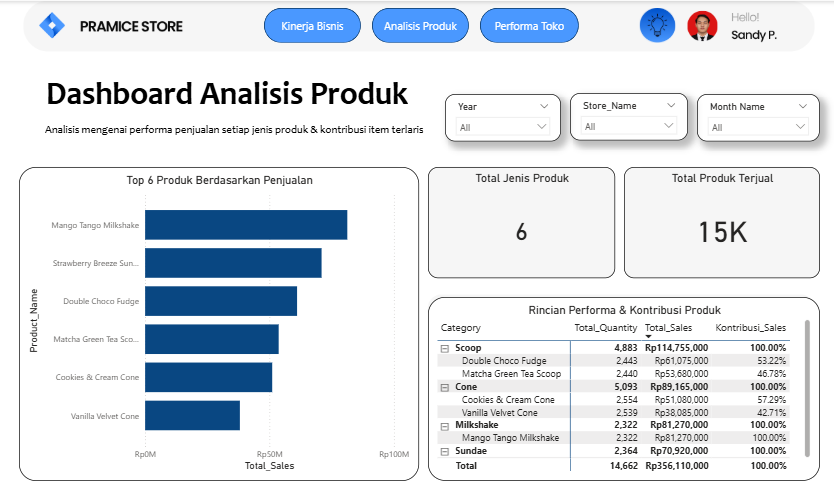

The dashboard page shown, as its layout file describes it:
{"tool":"powerbi","page":{"name":"(B) Product & Sales Analysis","canvas":[1280,720],"ordinal":3},"visuals":[{"type":"slicer","fields":{"Values":["Dim_Date.Month Name"]},"box":[1050,137.1,181.4,70],"z":0},{"type":"shape","box":[570.7,10,142.9,51.4],"z":1000},{"type":"shape","box":[730,10,145.7,51.4],"z":2000},{"type":"card","title":"Total Produk Terjual","fields":{"Values":["All Measure.Total_Quantity"]},"box":[942.9,244.3,288.6,164.3],"z":3000},{"type":"clusteredBarChart","title":"Top 6 Produk Berdasarkan Penjualan","fields":{"Y":["All Measure.Total_Sales"],"Category":["Dim_Product.Product_Name"]},"box":[50.1,244.8,589.9,463],"z":4000},{"type":"slicer","fields":{"Values":["Dim_Store.Store_Name"]},"box":[862.9,135.7,174.3,70],"z":5000},{"type":"slicer","fields":{"Values":["Dim_Date.Year"]},"box":[678.6,137.1,171.4,70],"z":6000},{"type":"shape","box":[90,105.7,564.3,58.6],"z":7000},{"type":"shape","box":[88.6,171.4,564.3,35.7],"z":8000},{"type":"shape","box":[411.4,10,142.9,51.4],"z":9000},{"type":"image","box":[950,10,84.3,51.4],"z":10000},{"type":"card","title":"Total Jenis Produk","fields":{"Values":["All Measure.Total Jenis Produk"]},"box":[653,244.4,275.9,164.2],"z":11000},{"type":"pivotTable","title":"Rincian Performa & Kontribusi Produk","fields":{"Values":["All Measure.Total_Quantity","All Measure.Total_Sales","All Measure.Kontribusi_Bulan_%"],"Rows":["Dim_Product.Category","Dim_Product.Product_Name"]},"box":[653,425.7,578.1,282.5],"z":12000}]}

Visuals, with their boxes on the page's 1280x720 design canvas (x1, y1, x2, y2). These are canvas units, not pixel positions in the 834x485 screenshot, which may show the page scaled, cropped or inside an application window:
slicer - Dim_Date.Month Name: l=1050, t=137, r=1231, b=207
shape: l=571, t=10, r=714, b=61
shape: l=730, t=10, r=876, b=61
"Total Produk Terjual" card: l=943, t=244, r=1232, b=409
"Top 6 Produk Berdasarkan Penjualan" clusteredBarChart: l=50, t=245, r=640, b=708
slicer - Dim_Store.Store_Name: l=863, t=136, r=1037, b=206
slicer - Dim_Date.Year: l=679, t=137, r=850, b=207
shape: l=90, t=106, r=654, b=164
shape: l=89, t=171, r=653, b=207
shape: l=411, t=10, r=554, b=61
image: l=950, t=10, r=1034, b=61
"Total Jenis Produk" card: l=653, t=244, r=929, b=409
"Rincian Performa & Kontribusi Produk" pivotTable: l=653, t=426, r=1231, b=708
